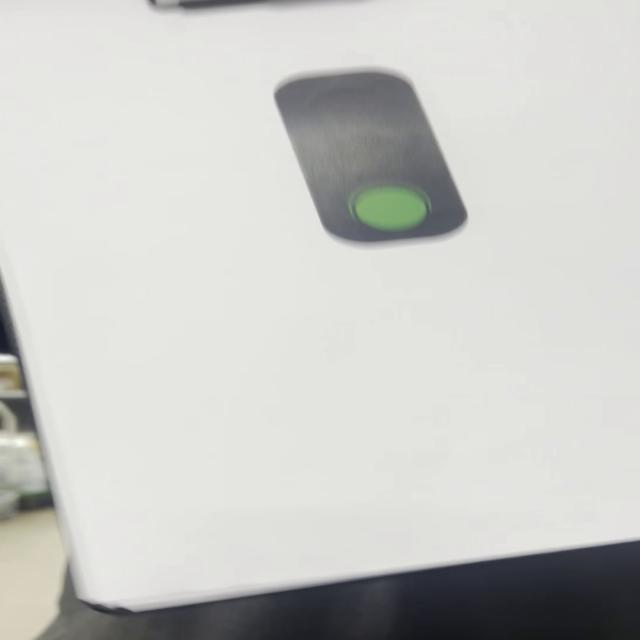green: (277, 72, 471, 244)
